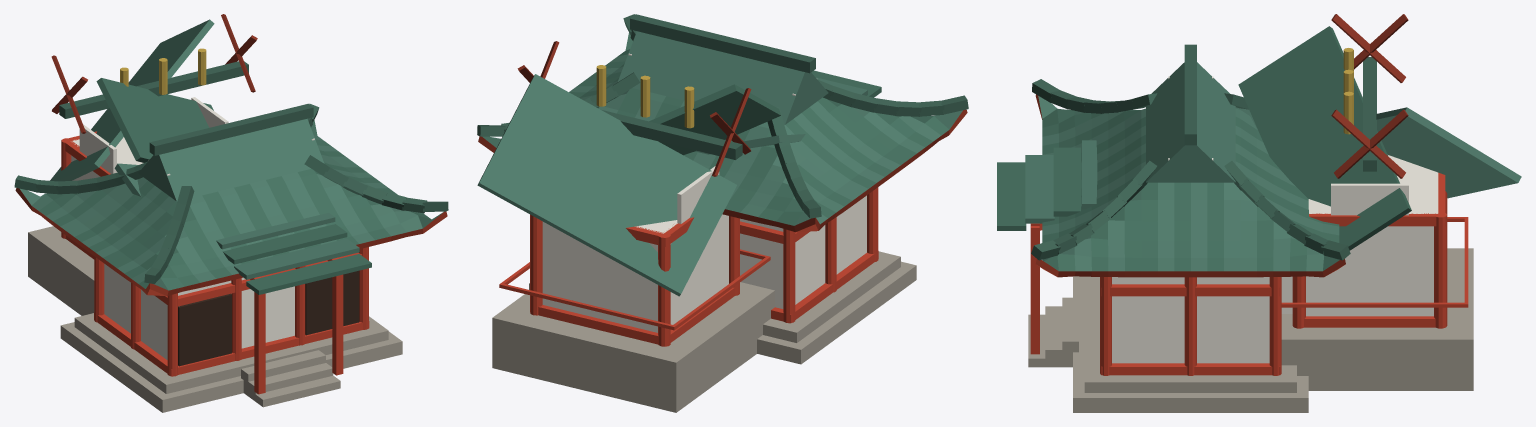
The model's file is sumiyoshi.glb.
3 renders of one model, left to right at view 1: azimuth 30°, elevation 25°; view 2: azimuth 150°, elevation 25°; view 3: azimuth 270°, elevation 25°, orthographic. The views are drawn at different scales.
Visible parts, largest first — view 1: sumiyoshi; view 2: sumiyoshi; view 3: sumiyoshi.
Part boxes in pixels (left/top/right/bottom): sumiyoshi: left=14, top=14, right=448, bottom=412; sumiyoshi: left=477, top=14, right=968, bottom=412; sumiyoshi: left=997, top=14, right=1521, bottom=412.
Bounding box in the file's own units: 8.62 × 6.62 × 11.13.
